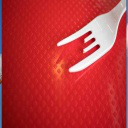fork: (41, 1, 128, 81)
